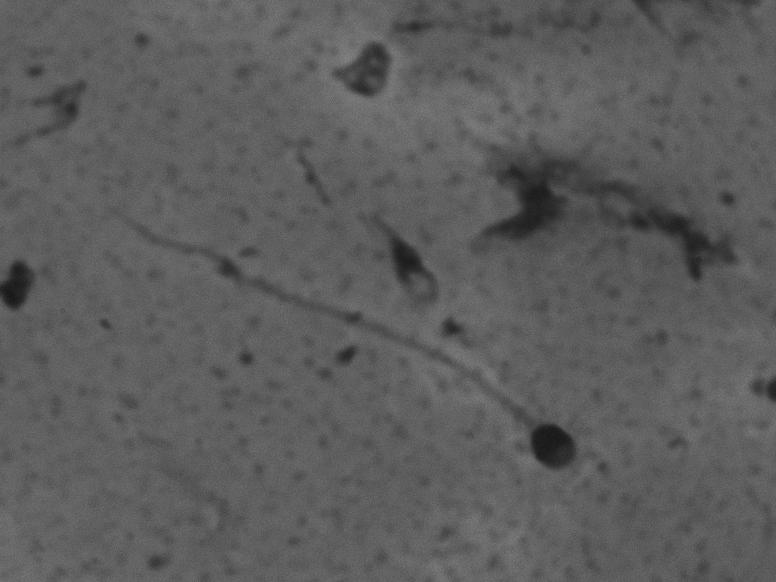Abnormal: (94, 194, 611, 483)
